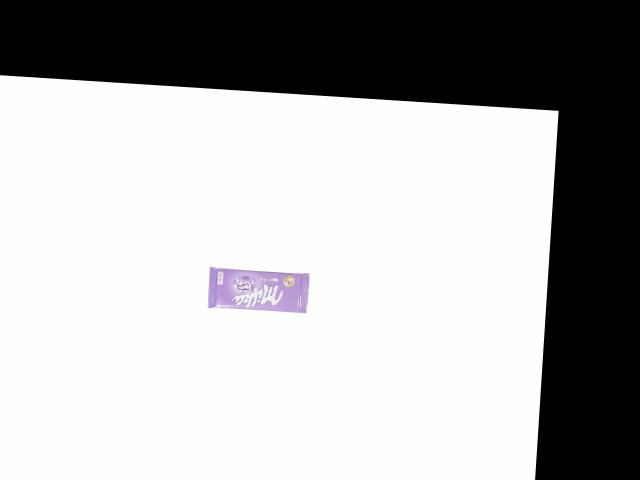chocolate: (201, 261, 310, 316)
